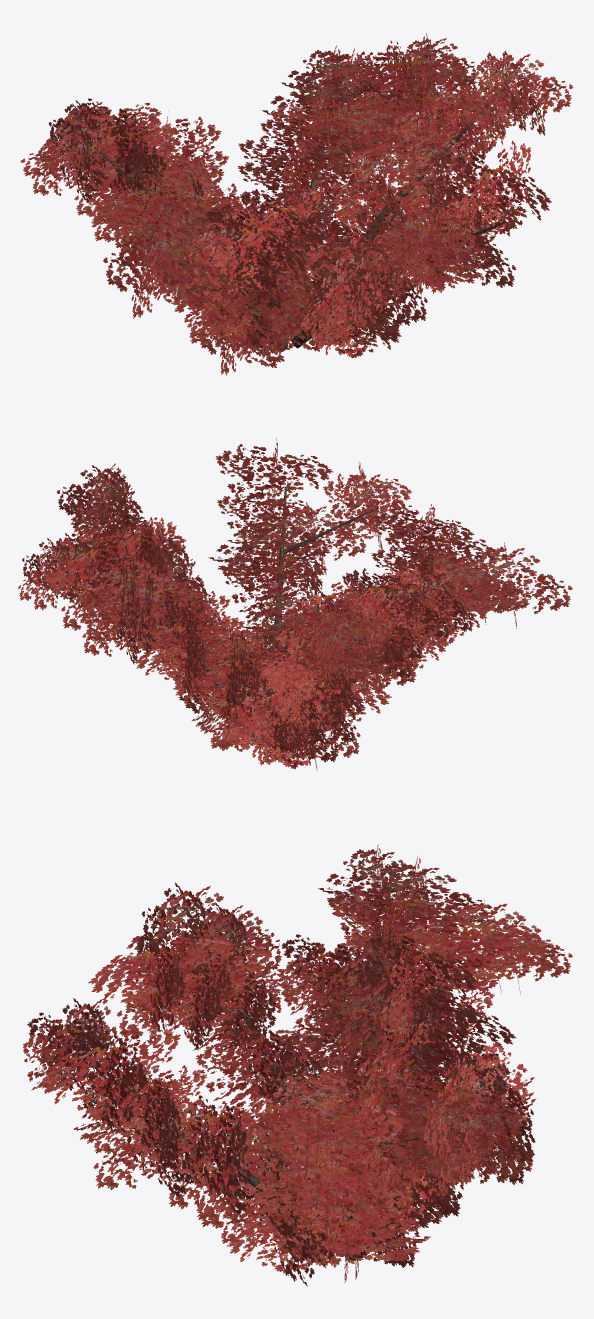
The model's file is bush_3d_02_red_lod0.glb.
The picture shows the model from 3 angles, top to bottom: view 1: azimuth 30°, elevation 25°; view 2: azimuth 150°, elevation 25°; view 3: azimuth 270°, elevation 25°; orthographic projection. The views are drawn at different scales.
Parts seen in each view (by area): view 1: foliage_cards, wood_geometry; view 2: foliage_cards, wood_geometry; view 3: foliage_cards, wood_geometry.
Part boxes in pixels (x1,y1,x2,y2): foliage_cards: [20, 33, 573, 375]; wood_geometry: [87, 69, 505, 351]; foliage_cards: [18, 438, 572, 771]; wood_geometry: [68, 486, 484, 747]; foliage_cards: [23, 844, 572, 1286]; wood_geometry: [86, 869, 491, 1260].
Bounding box in the file's own units: 3.1 × 1.49 × 2.51.
2 materials, 2 textured.
